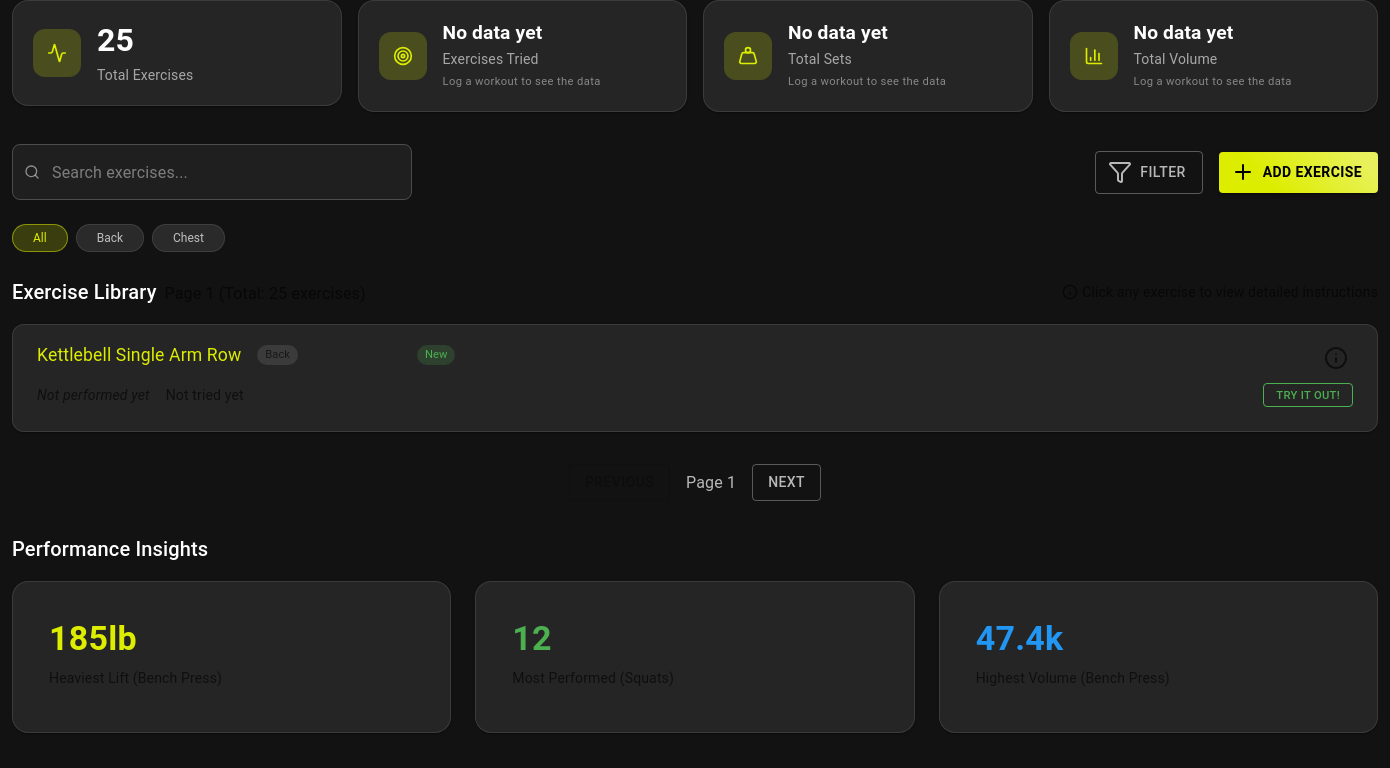
it: ExerciseLibraryTab › moves to the next page when pagination is clicked
Check: the heading "Kettlebell Single Arm Row" is shown, box [37, 341, 241, 369]
Click the button "Next". click: (787, 483)
box: [752, 464, 821, 501]
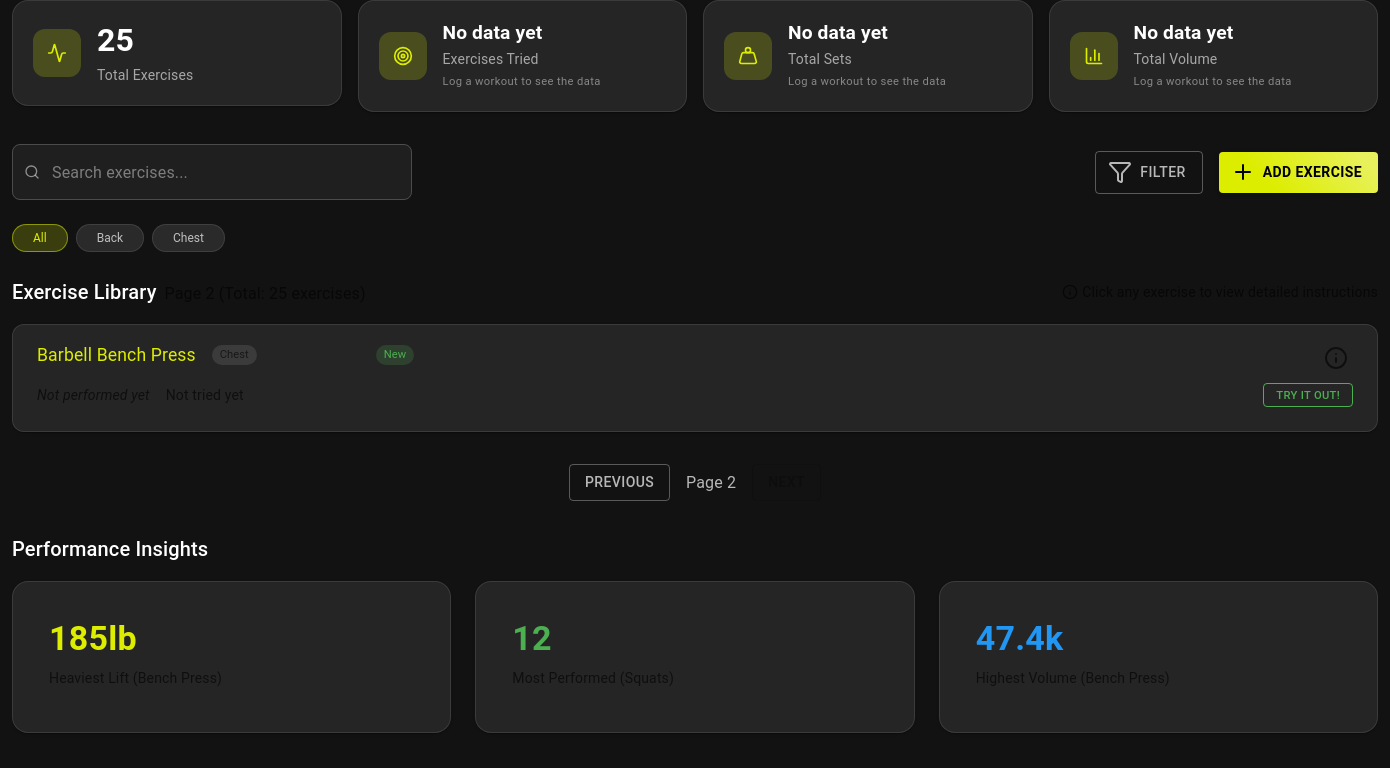
Check: the text "Page 2" is shown, box [686, 471, 736, 495]
Check: the heading "Barbell Bench Press" is shown, box [37, 341, 196, 369]
